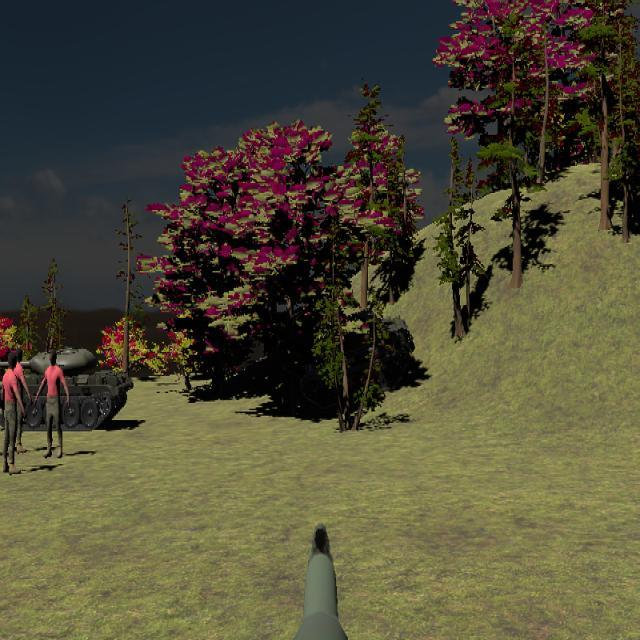Human: (34, 350, 70, 459), (1, 349, 24, 476)
Tank: (1, 345, 134, 431), (1, 345, 132, 432)
